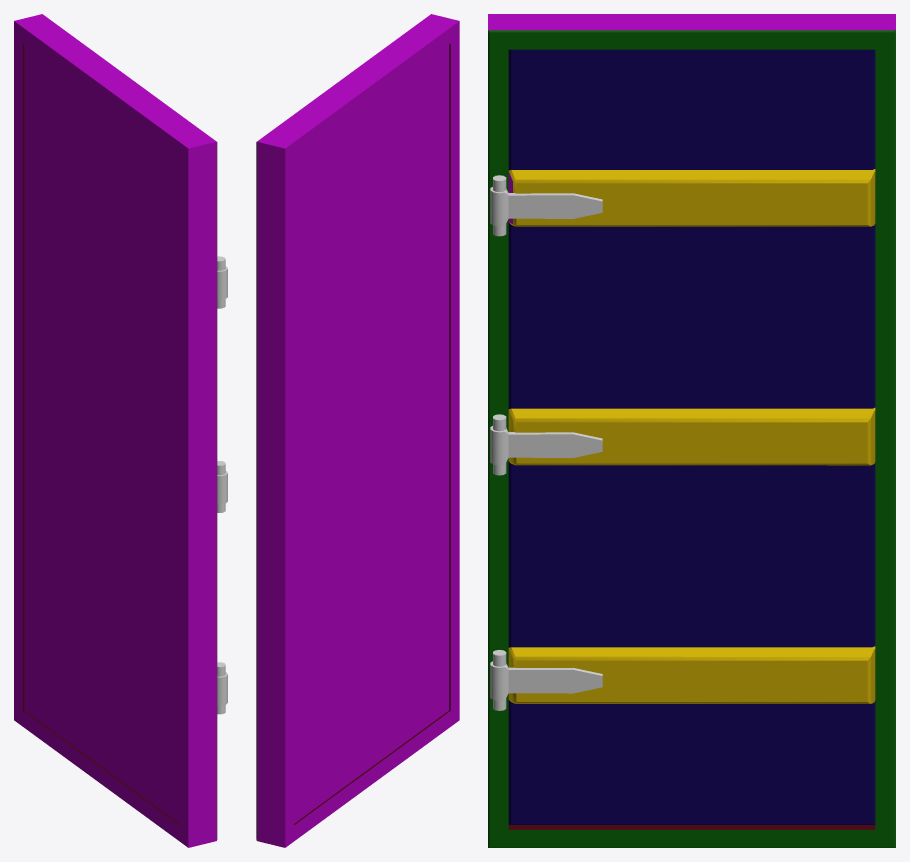
File: Door02.fbx
3 views of the same model, side by side, from view 1: azimuth 30°, elevation 25°; view 2: azimuth 150°, elevation 25°; view 3: azimuth 270°, elevation 25° (orthographic). The views are drawn at different scales.
Parts seen in each view (by area): view 1: Object, Box001, Cylinder003, Cylinder001, Cylinder002; view 2: Object, Box001; view 3: Object, Box001, Cylinder001, Cylinder003, Cylinder002.
Boxes of the visible parts, x1,y1,x2,y2 form: Object: (24,45,179,823); Box001: (14,14,217,847); Cylinder003: (217,256,227,308); Cylinder001: (217,662,227,714); Cylinder002: (217,461,227,512); Object: (294,45,449,823); Box001: (256,14,459,847); Object: (508,49,875,824); Box001: (488,14,895,847); Cylinder001: (490,650,602,710); Cylinder003: (490,175,602,236); Cylinder002: (490,414,602,475).
Size of the model in its own units: 11.7 by 180 by 81.49.
